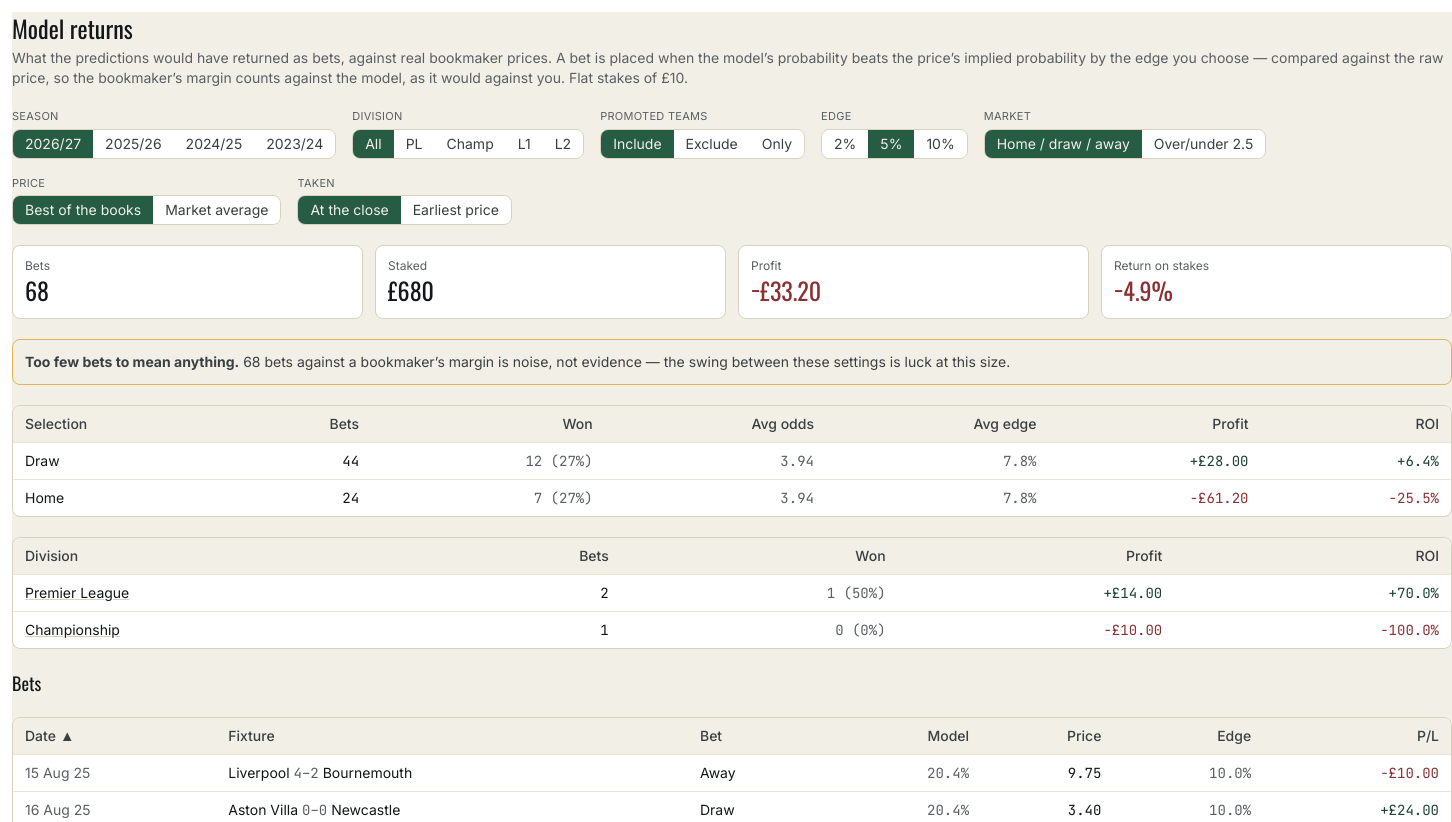
Test case: Model returns page › defaults to this season and labels last season as retro-fitted
Expected: the table named "Returns by selection" is shown, [13,406,1451,516]
Expected: the text "Retro-fitted" is not shown
Click the button "2025/26" at (133, 144), box [93,130,174,158]
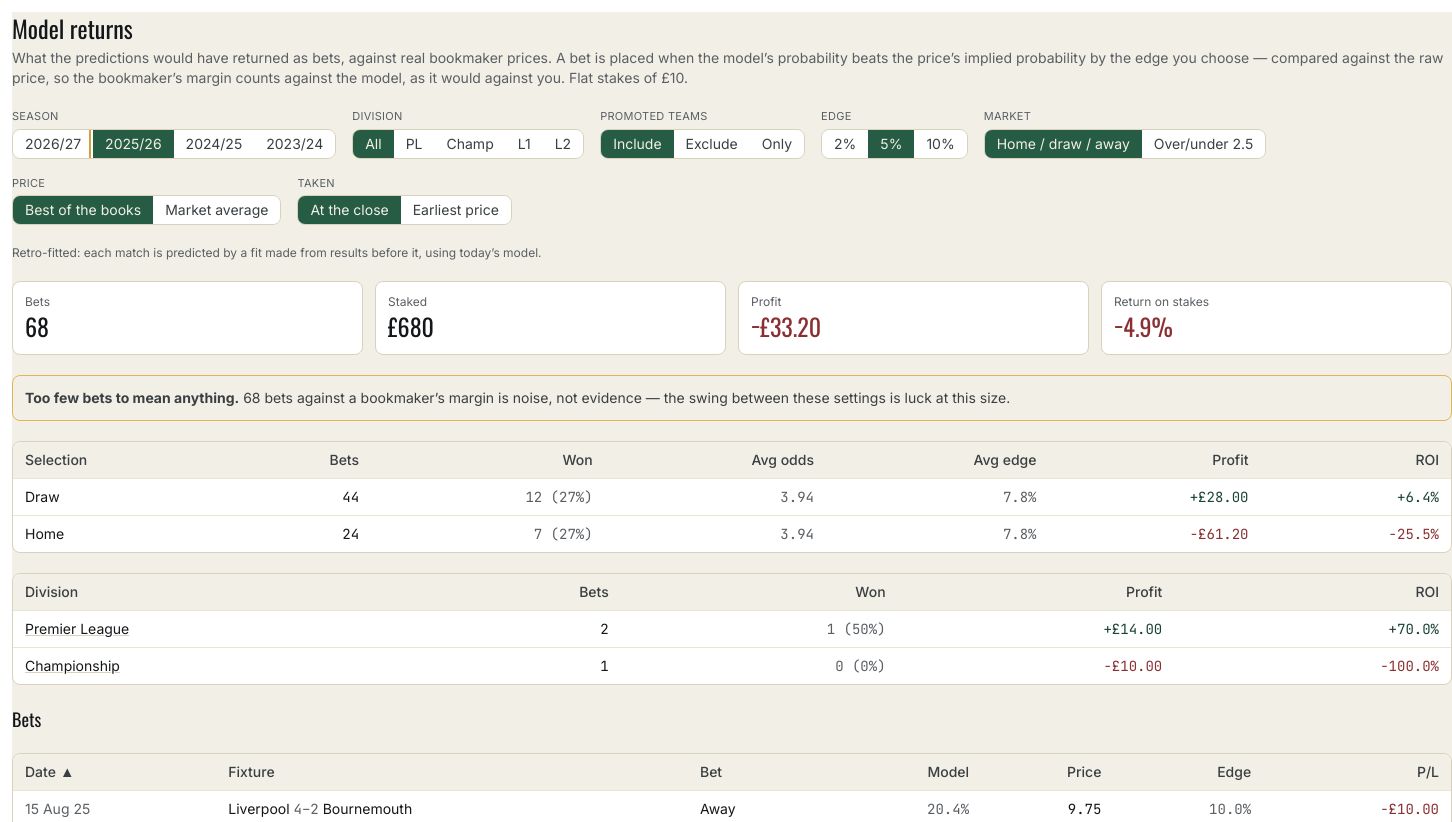
Expected: the text "Retro-fitted" is shown, [12,245,542,260]
